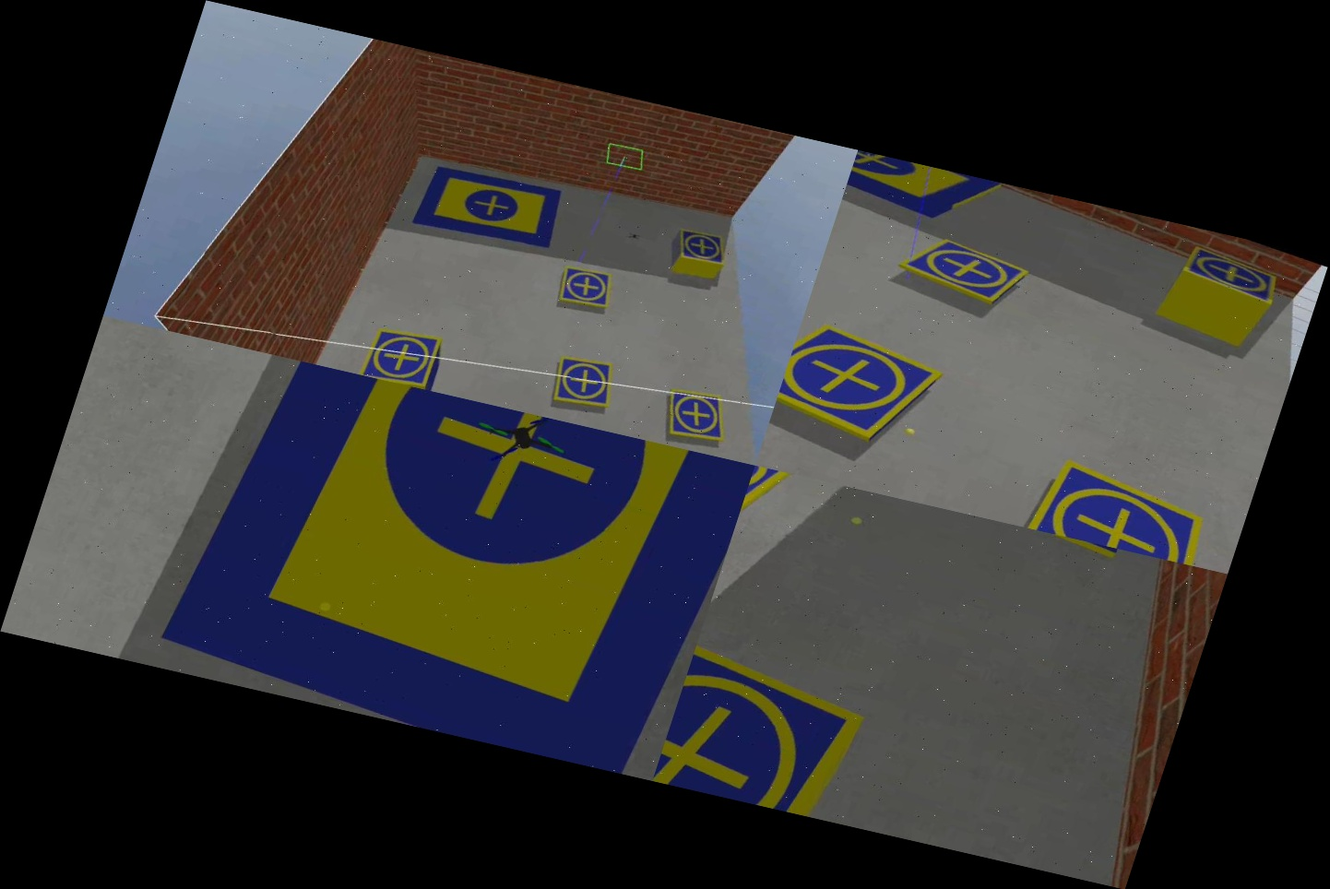large_base: (151, 350, 754, 780), (408, 150, 579, 270), (840, 150, 1003, 238)
small_base: (652, 630, 885, 823), (1016, 449, 1244, 572), (768, 310, 954, 457), (893, 227, 1037, 316), (1175, 243, 1288, 307), (356, 317, 452, 392), (650, 380, 743, 455), (540, 347, 629, 421), (548, 259, 623, 318), (666, 222, 738, 274)
